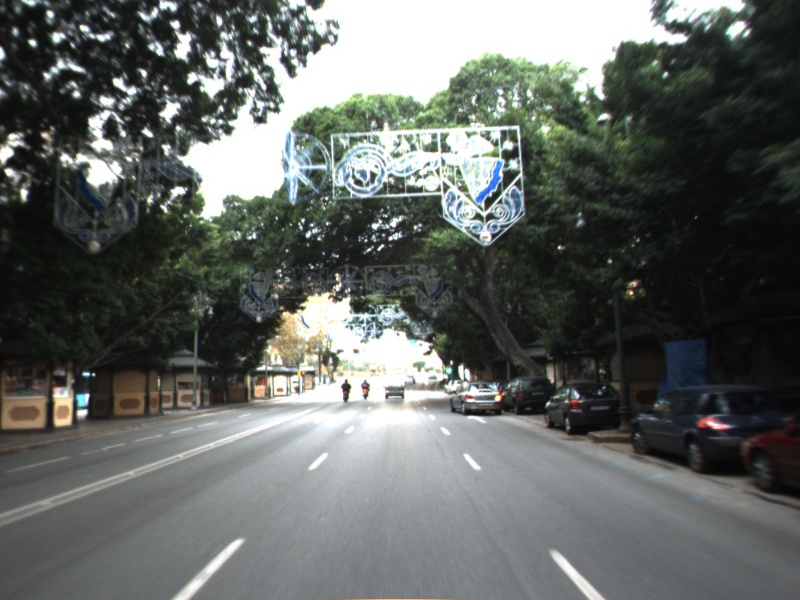STRAIGHT: (464, 413, 490, 425)
